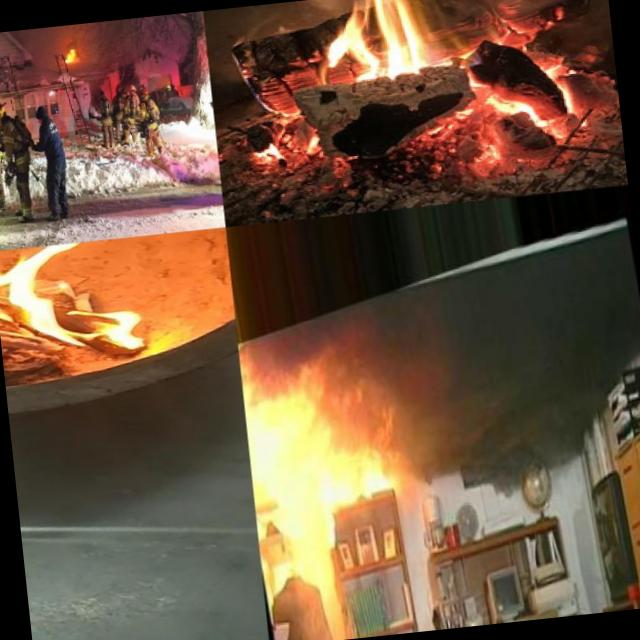fire: (292, 0, 576, 154), (239, 330, 406, 568), (0, 235, 157, 369), (62, 42, 82, 66)
smoke: (281, 558, 355, 640)
